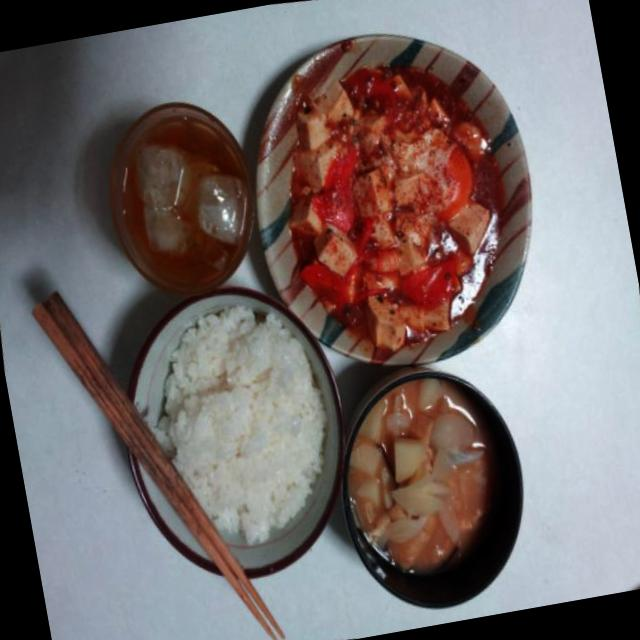Rice: (130, 305, 346, 574)
